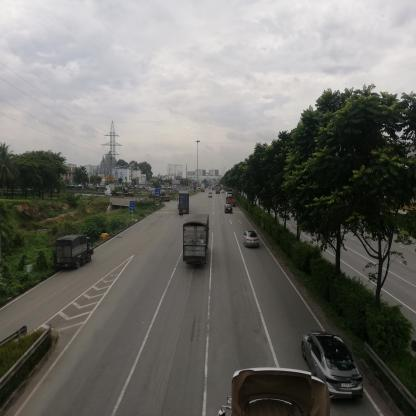car: (312, 332, 353, 400), (245, 231, 261, 249), (225, 207, 233, 213)
container: (106, 184, 129, 198), (179, 191, 190, 213), (226, 192, 233, 201), (149, 190, 154, 198)
truck: (184, 215, 210, 265), (58, 234, 95, 268)
